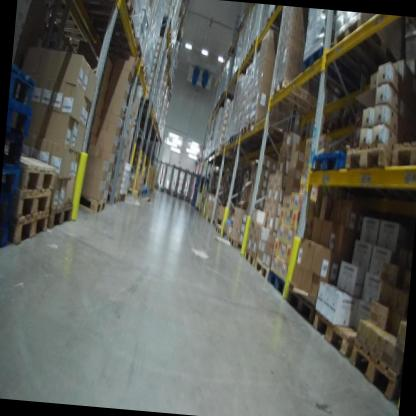pallet: (330, 15, 405, 82), (306, 141, 380, 197), (298, 40, 370, 97), (346, 333, 404, 403), (309, 304, 367, 363), (5, 178, 57, 233), (12, 138, 59, 193), (267, 75, 327, 118), (343, 137, 393, 187), (77, 4, 140, 41), (86, 27, 146, 64), (7, 204, 51, 251), (2, 126, 35, 182), (284, 282, 328, 323), (9, 58, 40, 112), (386, 128, 416, 181), (6, 87, 36, 136), (63, 0, 138, 19), (0, 164, 27, 211), (74, 185, 109, 221), (245, 117, 285, 144), (0, 205, 21, 256), (239, 124, 278, 149), (50, 200, 75, 232), (264, 7, 290, 34), (265, 269, 289, 297), (253, 256, 272, 284), (241, 244, 258, 268), (101, 185, 119, 207), (131, 56, 148, 77), (115, 188, 128, 208), (227, 233, 244, 248), (140, 71, 149, 88), (234, 127, 241, 144), (215, 225, 222, 236), (228, 136, 234, 148), (224, 139, 232, 148)
